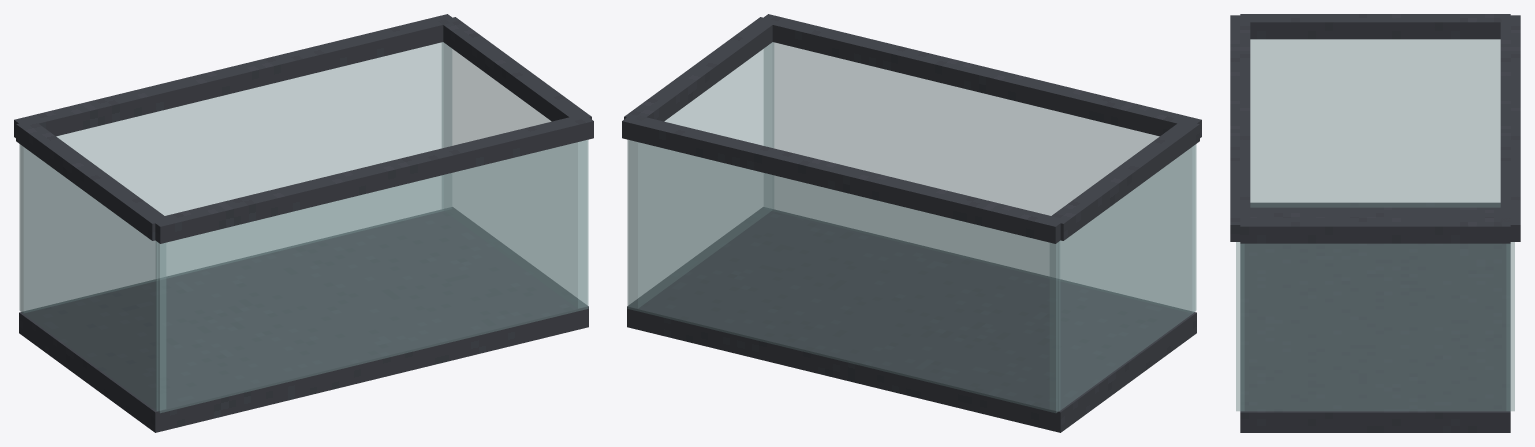
The model's file is aquarium_small.glb.
3 renders of one model, left to right at view 1: azimuth 30°, elevation 25°; view 2: azimuth 150°, elevation 25°; view 3: azimuth 270°, elevation 25°, orthographic.
Visible parts, largest first — view 1: block_glass wall (×2), block_bottom frame, block_glass end (×2), block_upper frame (×2), block_upper end (×2); view 2: block_glass wall (×2), block_bottom frame, block_glass end (×2), block_upper frame (×2), block_upper end (×2); view 3: block_glass end (×2), block_bottom frame, block_upper end (×2), block_upper frame (×2), block_glass wall (×2).
Boxes of the visible parts, left/top/right/bottom form: block_glass wall (×2): left=19, top=42, right=588, bottom=412; block_bottom frame: left=19, top=207, right=588, bottom=432; block_glass end (×2): left=20, top=42, right=587, bottom=410; block_upper frame (×2): left=14, top=14, right=593, bottom=243; block_upper end (×2): left=16, top=17, right=591, bottom=240; block_glass wall (×2): left=627, top=42, right=1196, bottom=412; block_bottom frame: left=627, top=207, right=1196, bottom=432; block_glass end (×2): left=628, top=42, right=1195, bottom=410; block_upper frame (×2): left=622, top=14, right=1201, bottom=243; block_upper end (×2): left=624, top=17, right=1199, bottom=240; block_glass end (×2): left=1240, top=39, right=1510, bottom=411; block_bottom frame: left=1240, top=202, right=1510, bottom=432; block_upper end (×2): left=1240, top=14, right=1510, bottom=243; block_upper frame (×2): left=1230, top=15, right=1520, bottom=241; block_glass wall (×2): left=1236, top=242, right=1514, bottom=411.
Bounding box in the file's own units: 0.91 × 0.4151 × 0.5248.
2 materials, 2 textured.
